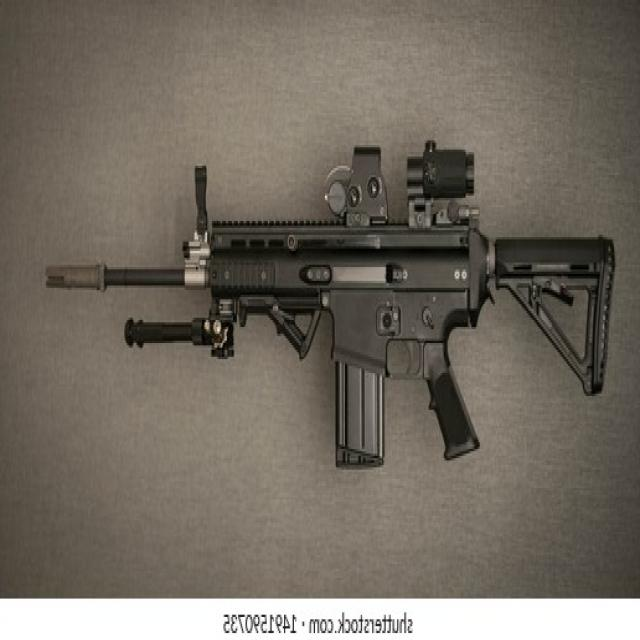Gun: (38, 150, 640, 496)
